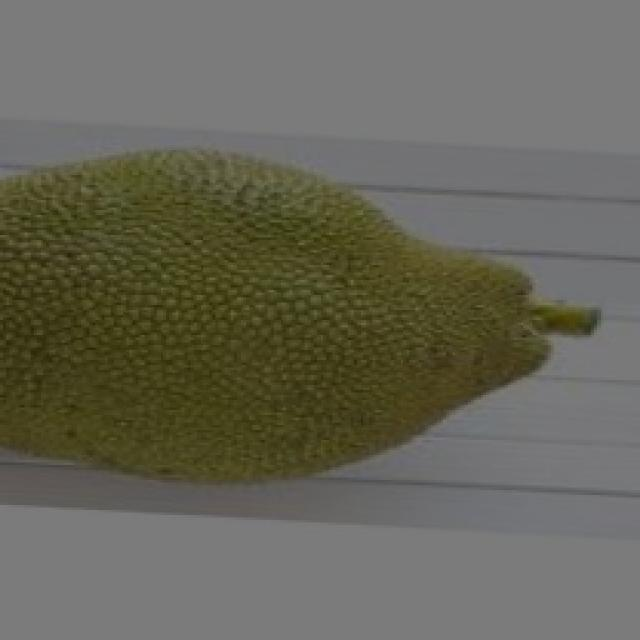Fruit: (0, 125, 409, 503)
